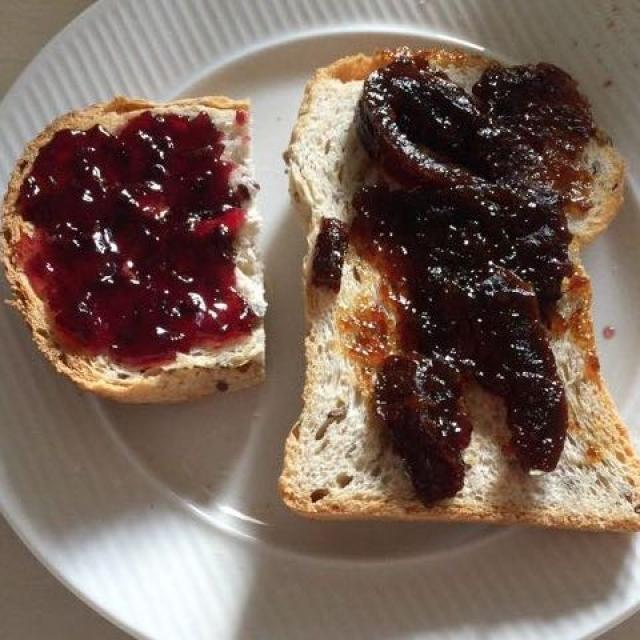bread: (313, 49, 629, 507), (10, 94, 262, 398)
jam: (25, 43, 594, 481)
